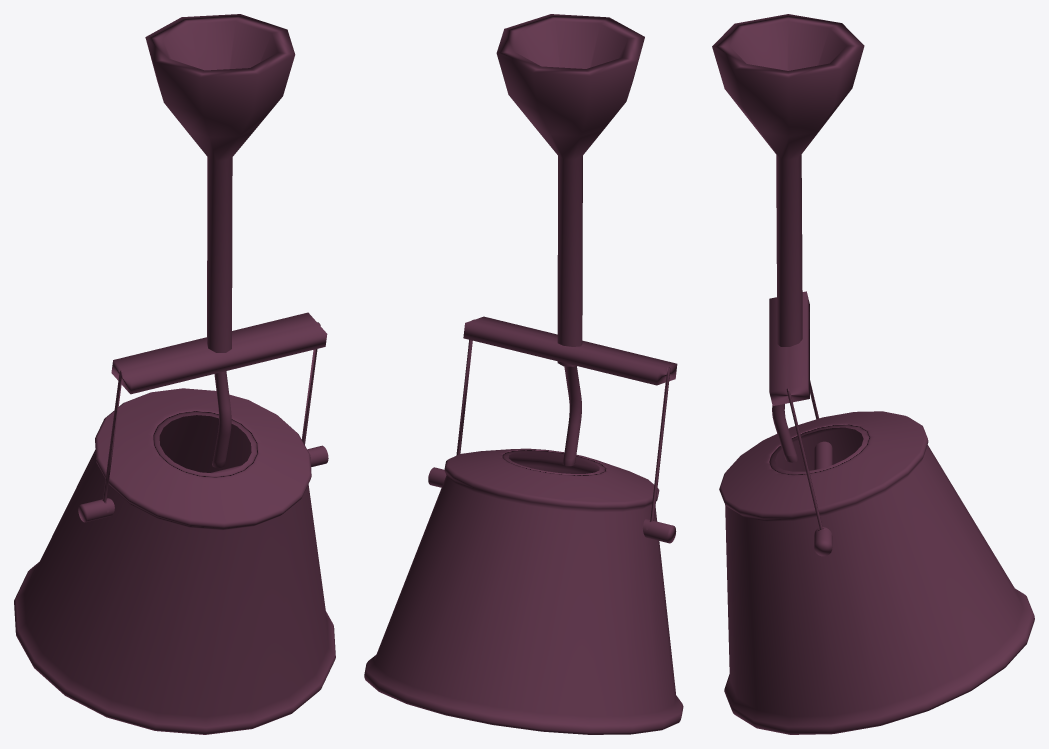
File: Light.fbx
The picture shows the model from 3 angles, left to right: view 1: azimuth 30°, elevation 25°; view 2: azimuth 150°, elevation 25°; view 3: azimuth 270°, elevation 25°; orthographic projection.
Visible parts, largest first — view 1: polySurface3; view 2: polySurface3; view 3: polySurface3.
Part boxes in pixels (left/top/right/bottom): polySurface3: left=14, top=14, right=335, bottom=734; polySurface3: left=364, top=14, right=683, bottom=734; polySurface3: left=712, top=14, right=1034, bottom=734.
Size of the model in its own units: 30.03 by 66.99 by 30.18.
Materials: 1 (1 with a texture image).
